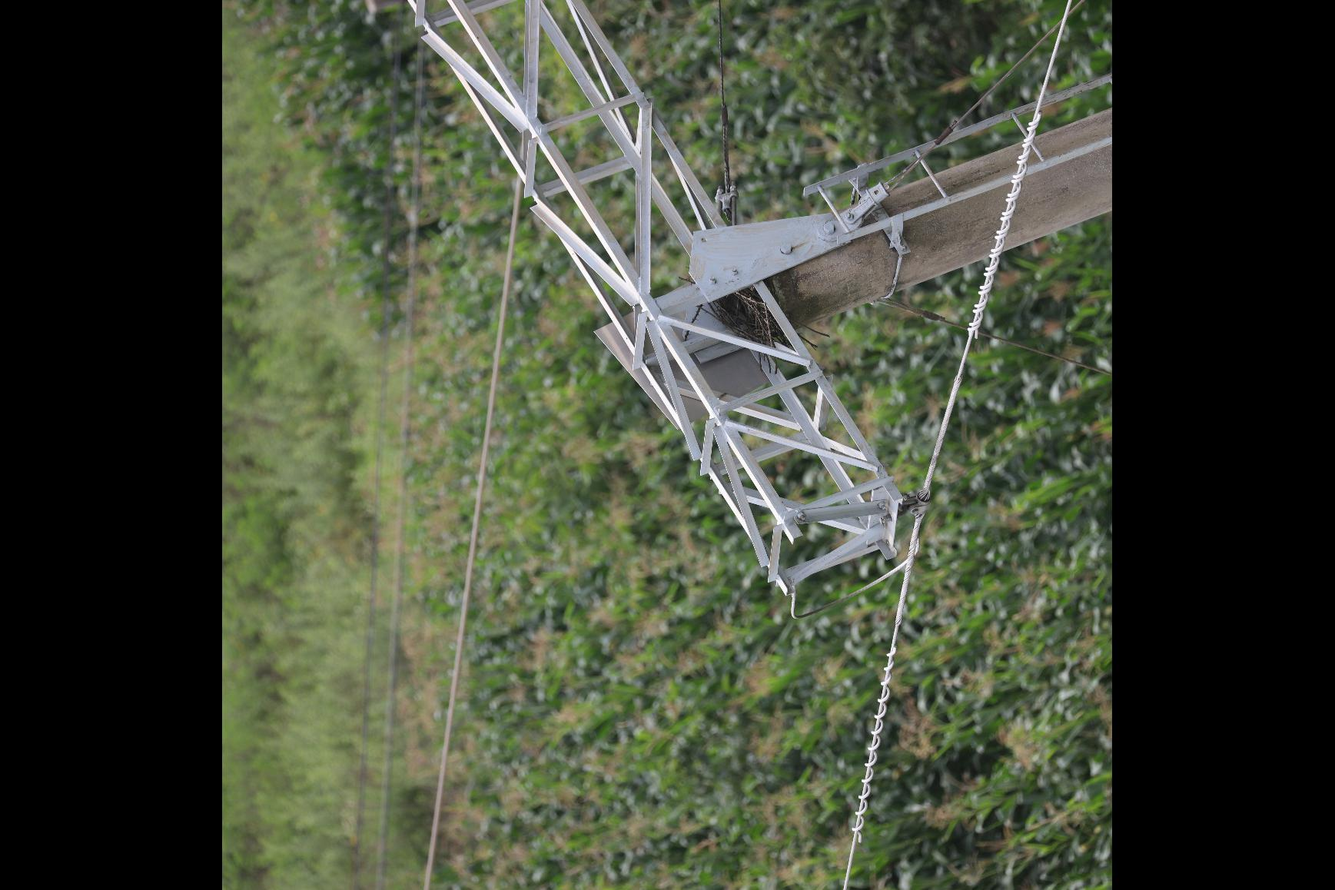nest: (716, 287, 794, 351)
